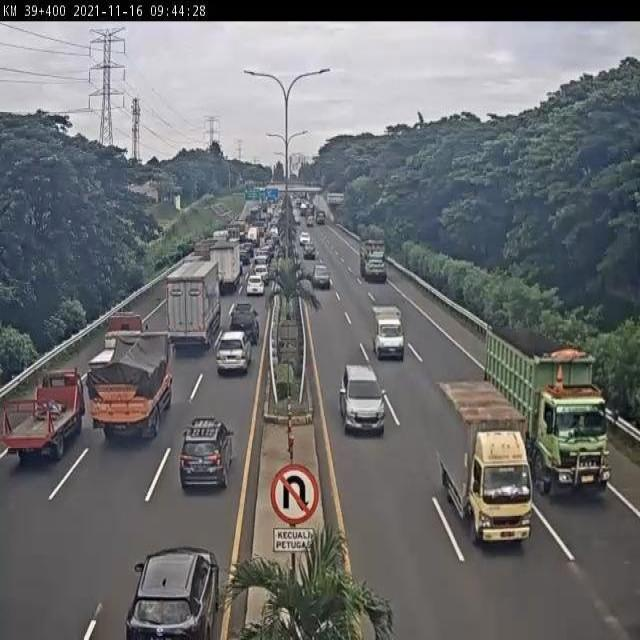Car: (124, 545, 220, 640), (179, 418, 236, 495), (338, 364, 386, 436), (215, 329, 253, 375), (228, 302, 260, 344), (312, 264, 332, 290), (246, 274, 265, 296), (253, 264, 269, 283), (302, 242, 316, 260), (298, 232, 310, 246)
Truck: (481, 325, 614, 502), (439, 377, 533, 545), (86, 329, 176, 441), (0, 369, 83, 465), (167, 261, 222, 346), (370, 306, 404, 362), (209, 241, 241, 291), (361, 240, 387, 282)
